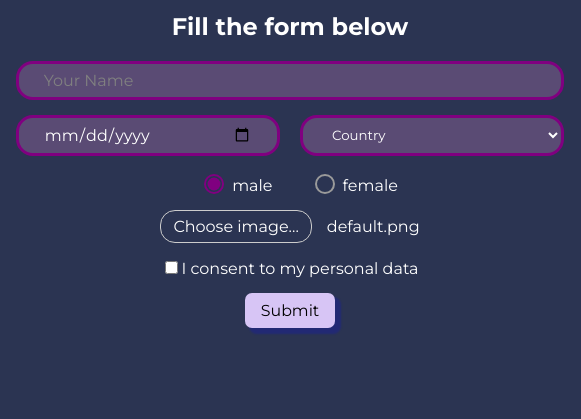
Test: ProductForm › date input › should show error message when date was not chosen
This screenshot has width=581, height=419.
Step 1. Click the button "Submit" → (290, 310), box x1=245 y1=293 x2=335 y2=328
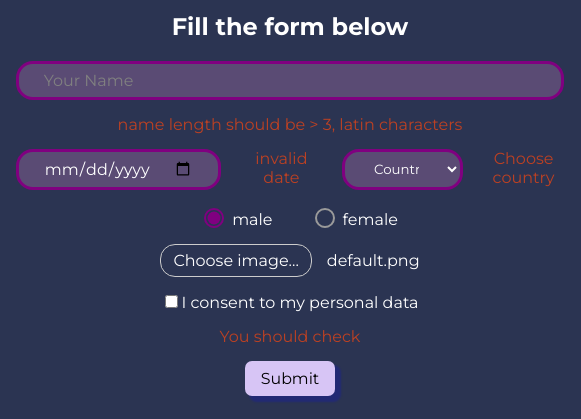
Expected: the text "invalid date" is shown, x1=255 y1=149 x2=308 y2=187
